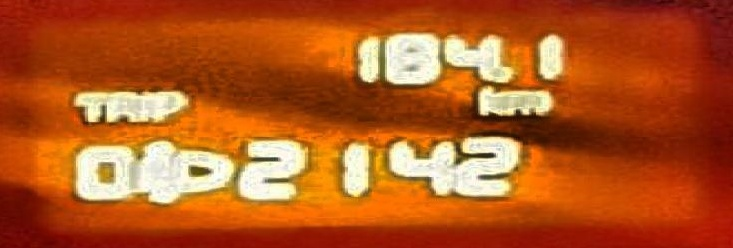-: (496, 63, 518, 82)
0: (67, 140, 138, 203)
1: (331, 137, 373, 197), (527, 28, 567, 82), (349, 32, 382, 87)
2: (233, 136, 309, 202), (453, 129, 522, 199)
4: (382, 137, 451, 197), (440, 29, 502, 86)
8: (378, 28, 444, 87)
X: (507, 85, 556, 119), (65, 87, 105, 123), (155, 87, 191, 123), (471, 83, 504, 119), (105, 89, 136, 122), (133, 88, 153, 123)
